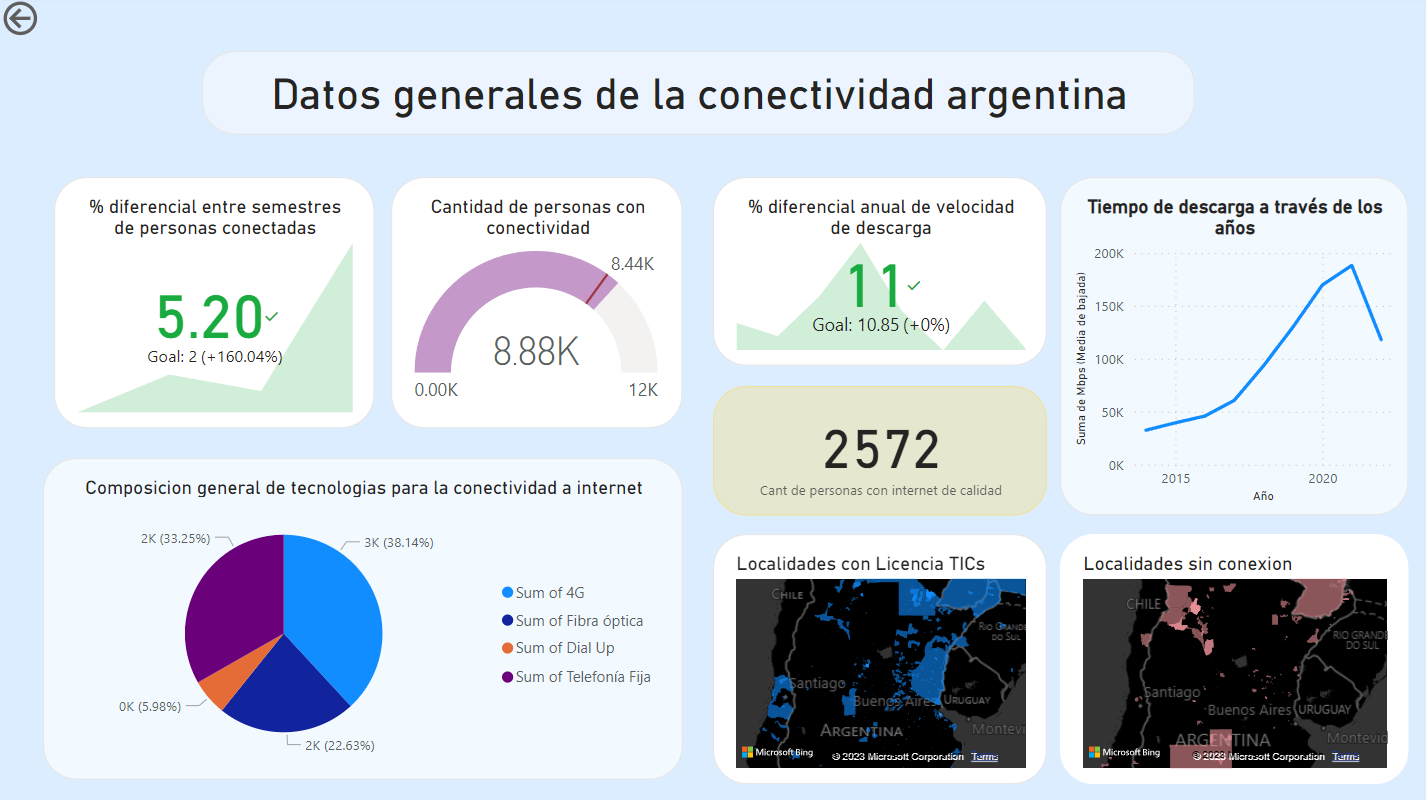

The page's visual inventory and layout, read from the dashboard file:
{"tool":"powerbi","page":{"name":"Page 1","canvas":[1280,720],"ordinal":0},"visuals":[{"type":"lineChart","title":"Tiempo de descarga a través de los años","fields":{"Category":["download_speed.Año"],"Y":["Sum(download_speed.Mbps (Media de bajada))"]},"box":[951,162.1,311.6,302.7],"z":0},{"type":"filledMap","fields":{"Category":["loc_with_connection.Localidad"]},"box":[951,481.8,311.6,223.9],"z":1000},{"type":"filledMap","fields":{"Category":["TIC_livenses.LOCALIDAD"]},"box":[640.3,481.8,299.1,223.9],"z":2000},{"type":"gauge","title":"Cantidad de personas con conectividad","fields":{"MaxValue":["Median(TablaAgrupada.Total por Trimestre)"],"TargetValue":["TablaAgrupada.ValorActual"],"Y":["TablaAgrupada.Cantidad en aumento"]},"box":[351.9,162.1,261.5,224.8],"z":3000},{"type":"kpi","title":"% diferencial entre semestres de personas conectadas","fields":{"TrendLine":["TablaAgrupada.internet_access_Trimestre"],"Indicator":["TablaAgrupada.Diferencial Actual"],"Goal":["TablaAgrupada.% de aumento esperado"]},"box":[50.1,162.1,286.6,224.8],"z":4000},{"type":"kpi","title":"% diferencial anual de velocidad de descarga","fields":{"TrendLine":["TablaAgrupadaVelocidad.Total anual"],"Indicator":["TablaAgrupadaVelocidad.ValorActualAnual"],"Goal":["Sum(TablaAgrupadaVelocidad.Diferencia Anual)"]},"box":[640.3,162.1,299.1,169.3],"z":5000},{"type":"actionButton","box":[0,0,100,40],"z":6000},{"type":"pieChart","title":"Composicion general de tecnologias para la conectividad a internet","fields":{"Y":["Sum(loc_with_connection.4G)","Sum(loc_with_connection.Fibra óptica)","Sum(loc_with_connection.Dial Up)","Sum(loc_with_connection.Telefonía Fija)"]},"box":[40.3,413.7,573.1,288.4],"z":7000},{"type":"card","fields":{"Values":["Sum(loc_with_connection.4G)"]},"box":[640.3,349.3,299.1,115.5],"z":8000},{"type":"textbox","box":[182.7,49.3,889.3,75.2],"z":8001}]}

Visuals, with their boxes in screenshot pixels (x1, y1, x2, y2), scaled from the page's 1280x720 canvas onto the 1426x800 screenshot:
"Tiempo de descarga a través de los años" lineChart: pyautogui.locateOnScreen(1059, 180, 1407, 516)
filledMap - loc_with_connection.Localidad: pyautogui.locateOnScreen(1059, 535, 1407, 784)
filledMap - TIC_livenses.LOCALIDAD: pyautogui.locateOnScreen(713, 535, 1047, 784)
"Cantidad de personas con conectividad" gauge: pyautogui.locateOnScreen(392, 180, 683, 430)
"% diferencial entre semestres de personas conectadas" kpi: pyautogui.locateOnScreen(56, 180, 375, 430)
"% diferencial anual de velocidad de descarga" kpi: pyautogui.locateOnScreen(713, 180, 1047, 368)
actionButton: pyautogui.locateOnScreen(0, 0, 111, 44)
"Composicion general de tecnologias para la conectividad a internet" pieChart: pyautogui.locateOnScreen(45, 460, 683, 780)
card - Sum(loc_with_connection.4G): pyautogui.locateOnScreen(713, 388, 1047, 516)
textbox: pyautogui.locateOnScreen(204, 55, 1194, 138)
